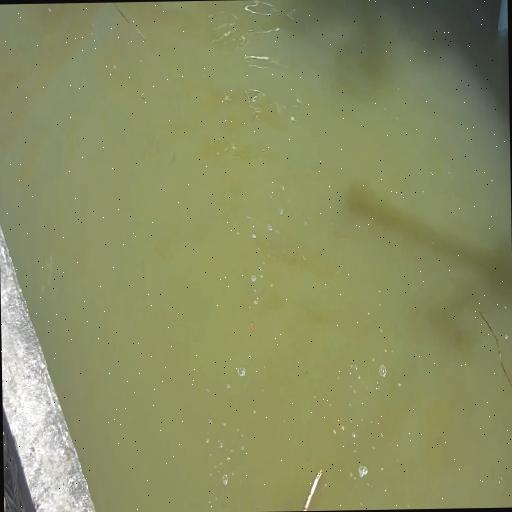twig: (300, 467, 324, 511)
